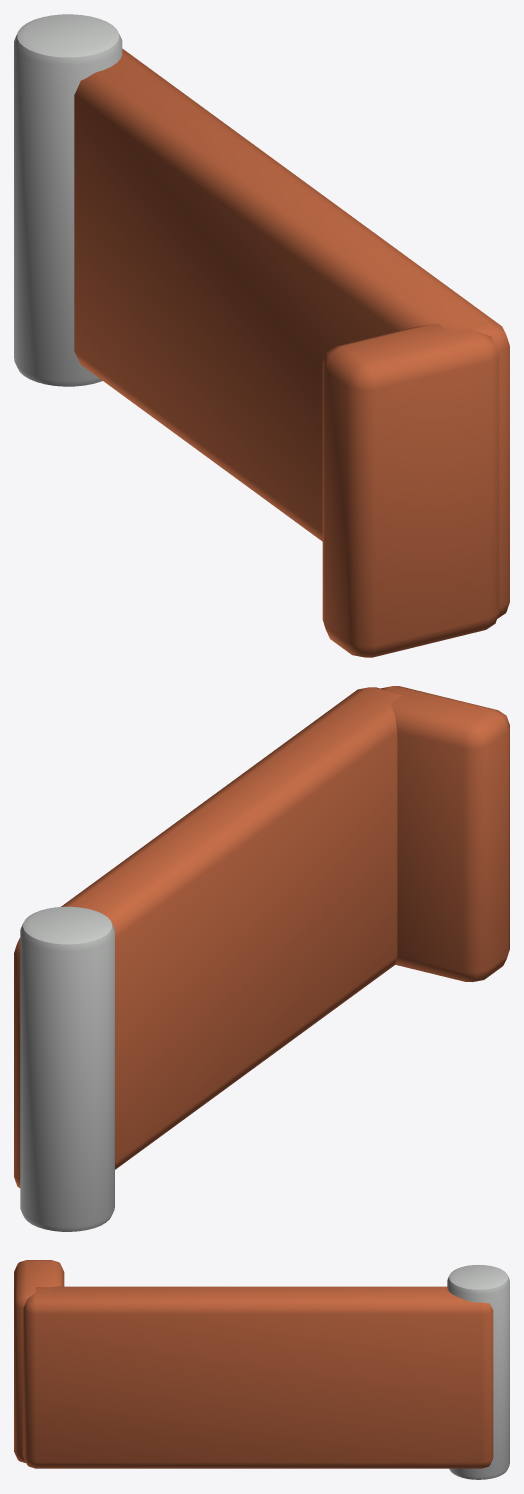
File: orbital_welding_head_clamp_lever.glb
The picture shows the model from 3 angles, top to bottom: view 1: azimuth 30°, elevation 25°; view 2: azimuth 150°, elevation 25°; view 3: azimuth 270°, elevation 25°; orthographic projection. The views are drawn at different scales.
Parts seen in each view (by area): view 1: orbital_welding_head_clamp_lever; view 2: orbital_welding_head_clamp_lever; view 3: orbital_welding_head_clamp_lever.
Part boxes in pixels (x1,y1,x2,y2): orbital_welding_head_clamp_lever: (14, 14, 509, 657); orbital_welding_head_clamp_lever: (14, 686, 509, 1231); orbital_welding_head_clamp_lever: (14, 1260, 509, 1479).
Bounding box in the file's own units: 0.018 × 0.034 × 0.079.
